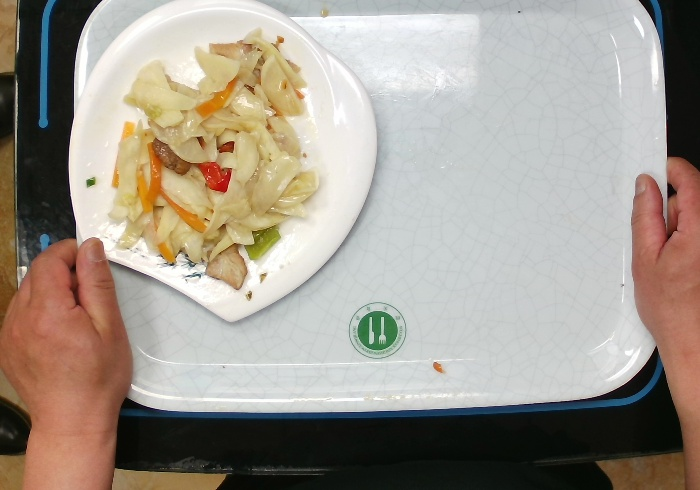JYsf-Mian_Pan: (63, 1, 384, 329)
